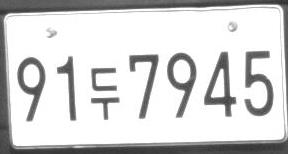1: (54, 55, 84, 120)
4: (202, 51, 236, 117)
5: (243, 50, 273, 117)
7: (128, 53, 159, 119)
9: (166, 52, 196, 118), (16, 57, 46, 121)
두: (90, 67, 119, 120)
